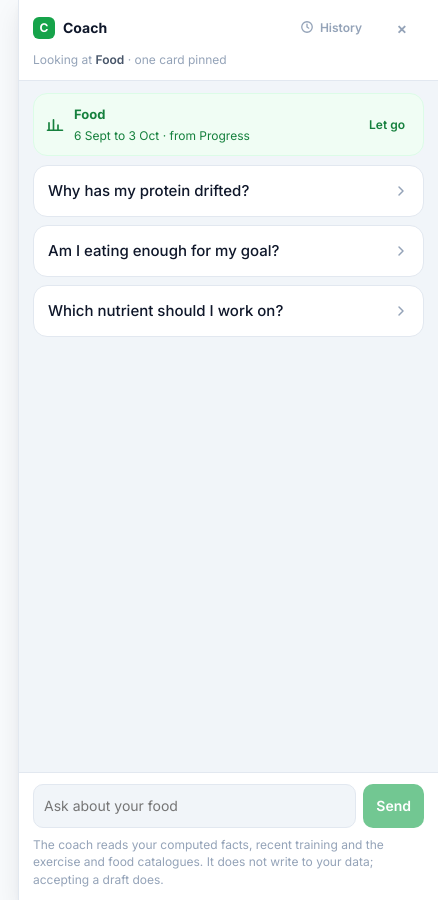
Test: CoachDockComponent — pinned card › asks about the card in the composer and lets go of it
Click the button with class "release".
click(387, 125)  # box left=363, top=109, right=411, bottom=141
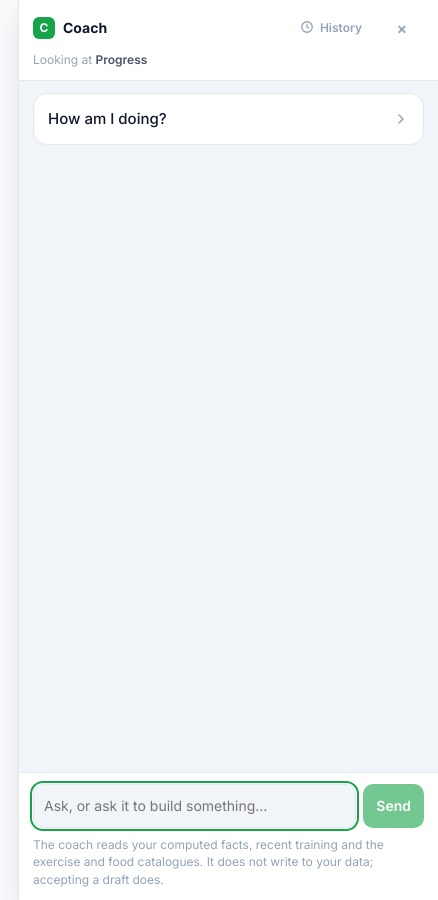
Expected: the text with class "sugg-text" reads "How am I doing?", left=48, top=109, right=167, bottom=128
